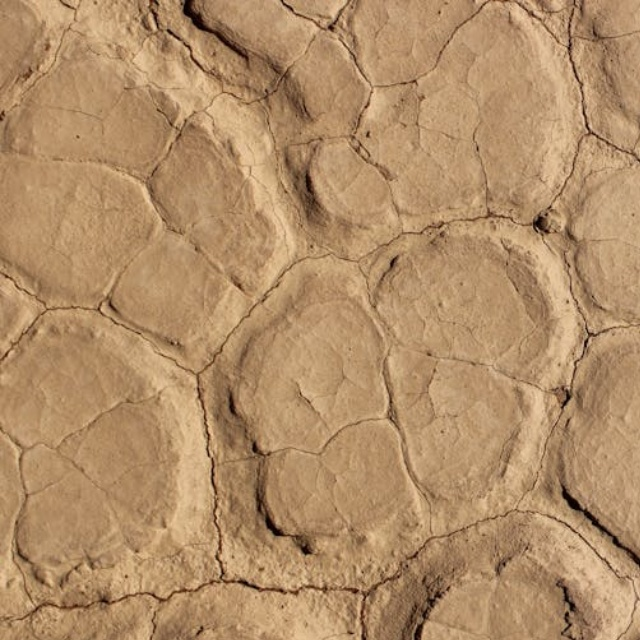细微裂纹: (44, 333, 510, 640), (301, 163, 461, 629), (40, 489, 400, 640), (149, 264, 293, 633), (30, 523, 506, 613), (319, 562, 500, 640)
网状裂隙: (298, 0, 640, 560)
